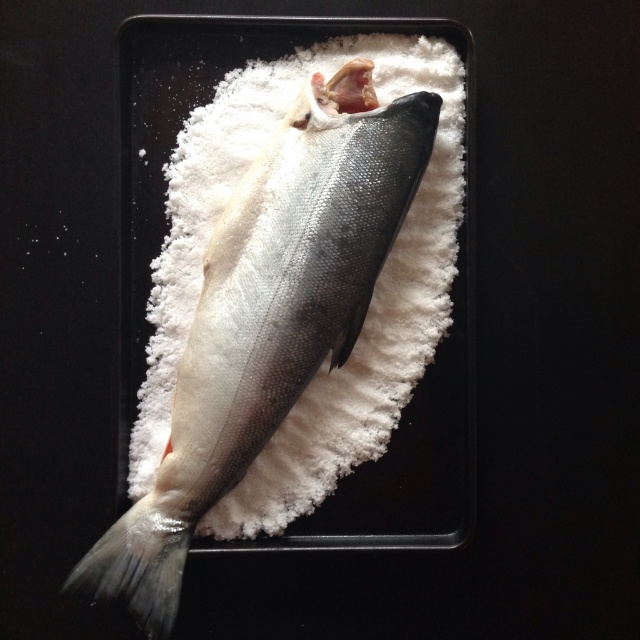Fish: (61, 56, 442, 640)
